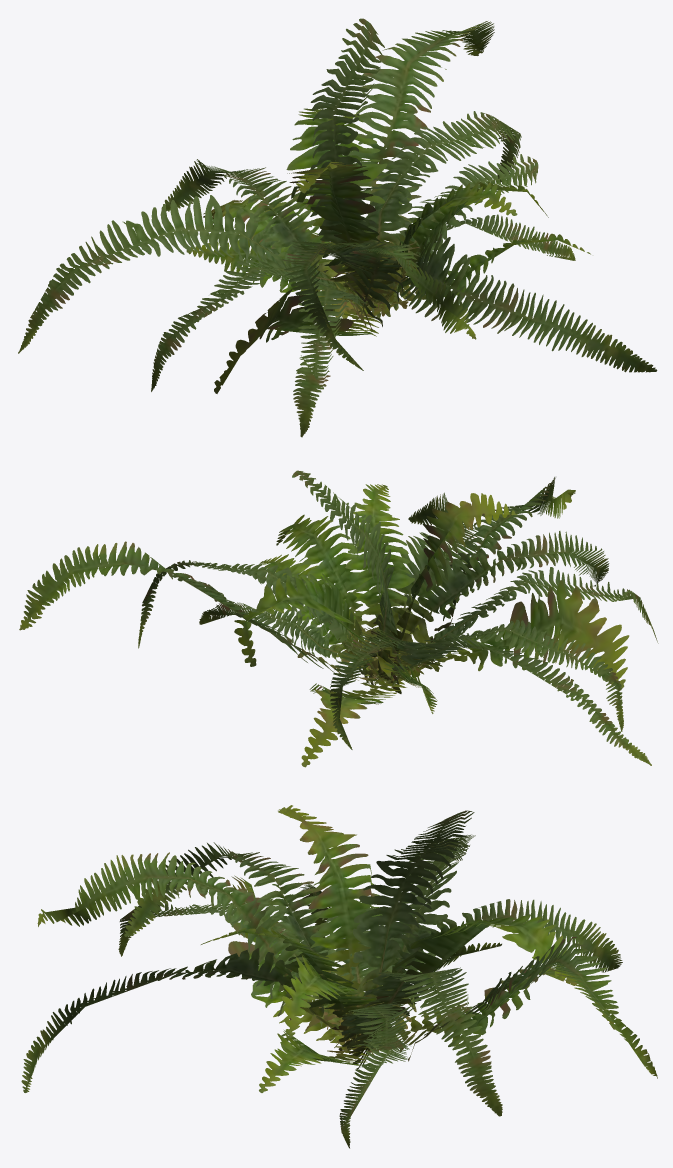
Rendered from fern.glb.
3 views of the same model, one above another, from view 1: azimuth 30°, elevation 25°; view 2: azimuth 150°, elevation 25°; view 3: azimuth 270°, elevation 25° (orthographic). The views are drawn at different scales.
Parts seen in each view (by area): view 1: lod1; view 2: lod1; view 3: lod1.
Boxes of the visible parts, x1,y1,x2,y2 form: lod1: [18, 18, 657, 437]; lod1: [19, 470, 658, 767]; lod1: [21, 805, 657, 1148].
Size of the model in its own units: 1.62 by 0.7 by 1.45.
Materials: 1 (1 with a texture image).
